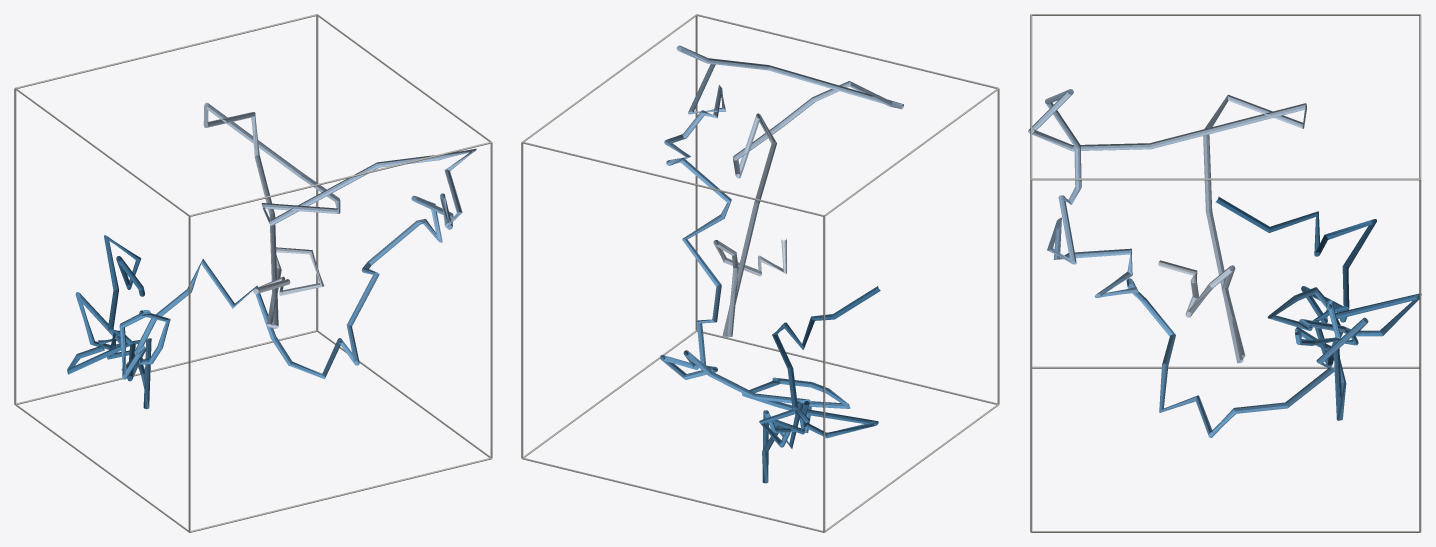
3 views of the same model, side by side, from view 1: azimuth 30°, elevation 25°; view 2: azimuth 150°, elevation 25°; view 3: azimuth 270°, elevation 25° (orthographic). The views are drawn at different scales.
Visible parts, largest first — view 1: geometry_0, geometry_1; view 2: geometry_0, geometry_1; view 3: geometry_0, geometry_1.
Part boxes in pixels (bbox=[...]): geometry_0: bbox=[67, 102, 476, 409]; geometry_1: bbox=[14, 14, 492, 532]; geometry_0: bbox=[660, 45, 903, 483]; geometry_1: bbox=[521, 14, 999, 532]; geometry_0: bbox=[1028, 89, 1421, 437]; geometry_1: bbox=[1030, 14, 1421, 532].
Size of the model in its own units: 0.3036 by 0.3032 by 0.3036.
